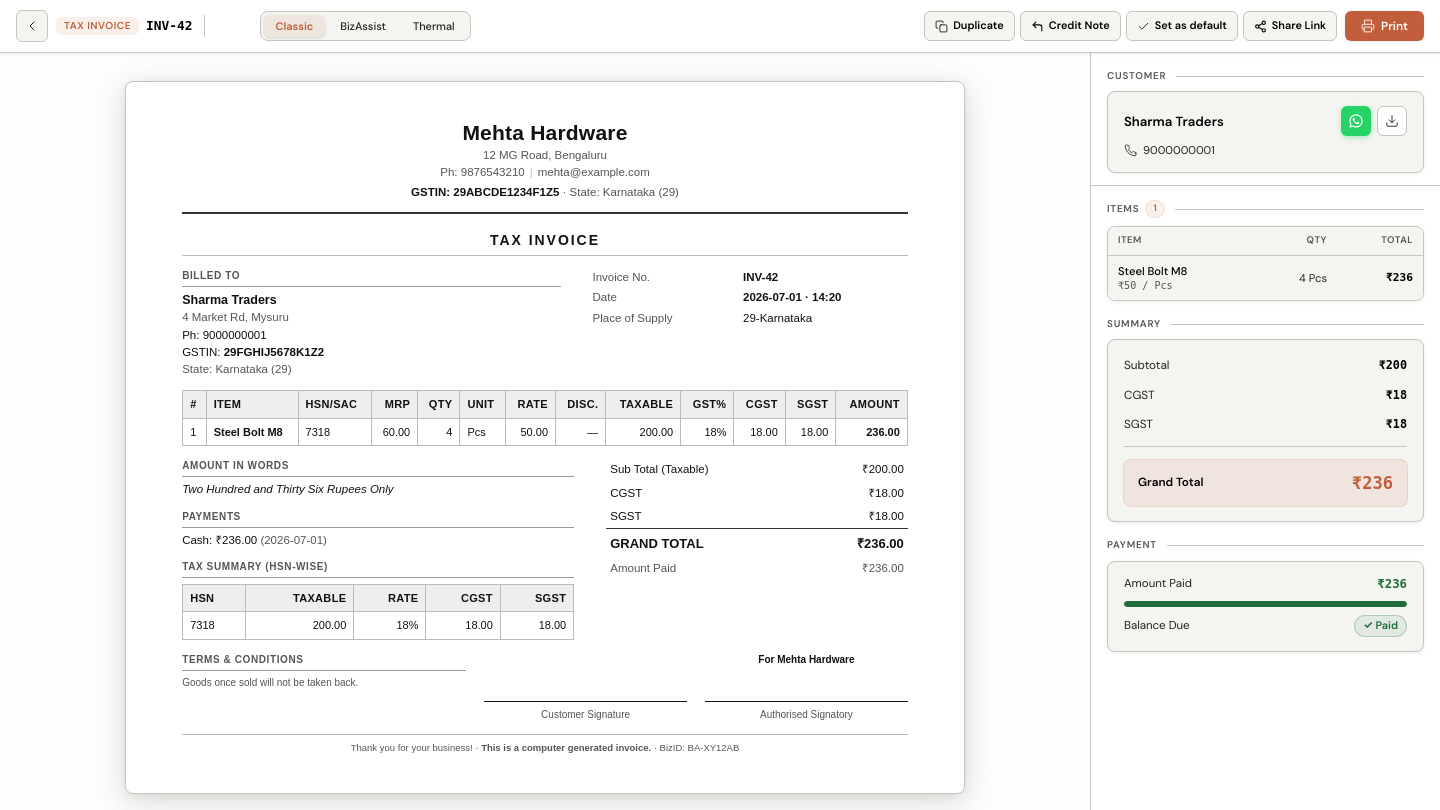
Test: InvoiceViewer › rejects a printable HTML fallback instead of downloading it as a PDF
This screenshot has width=1440, height=810.
Click the button named "Download PDF". click: [1392, 121]
box: [1377,106,1407,136]
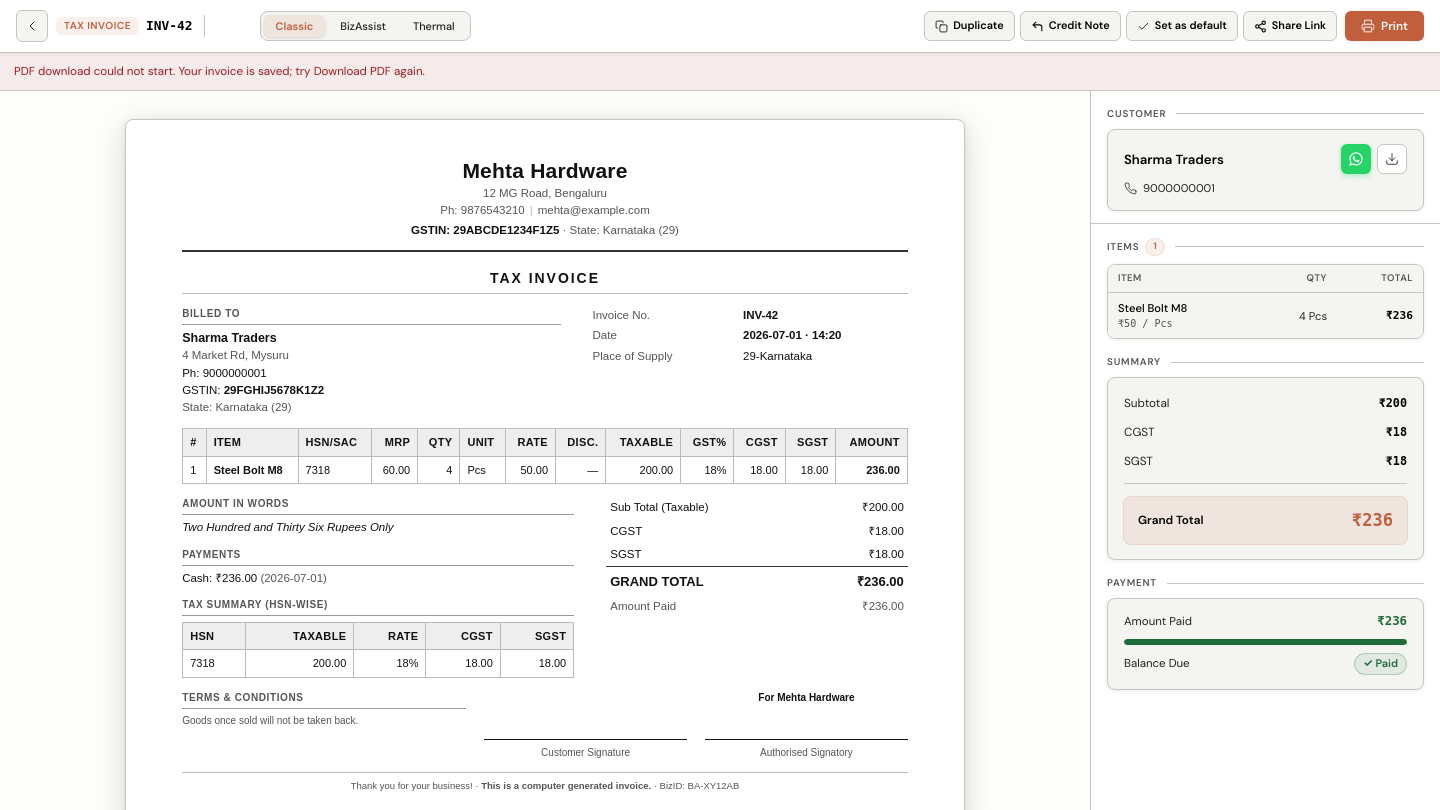
Check: the button named "Download PDF" is enabled, box [1377,144,1407,174]
Check: the message shows "Your invoice is saved", box [14,63,425,79]
